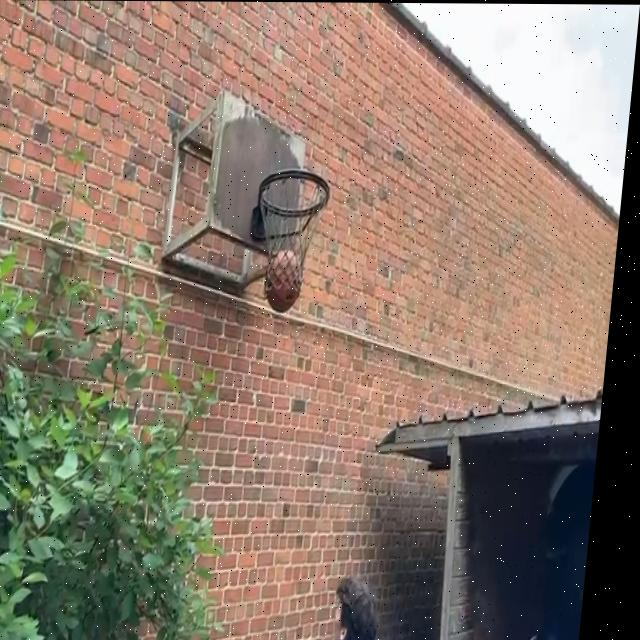Goal: (263, 249, 306, 312)
